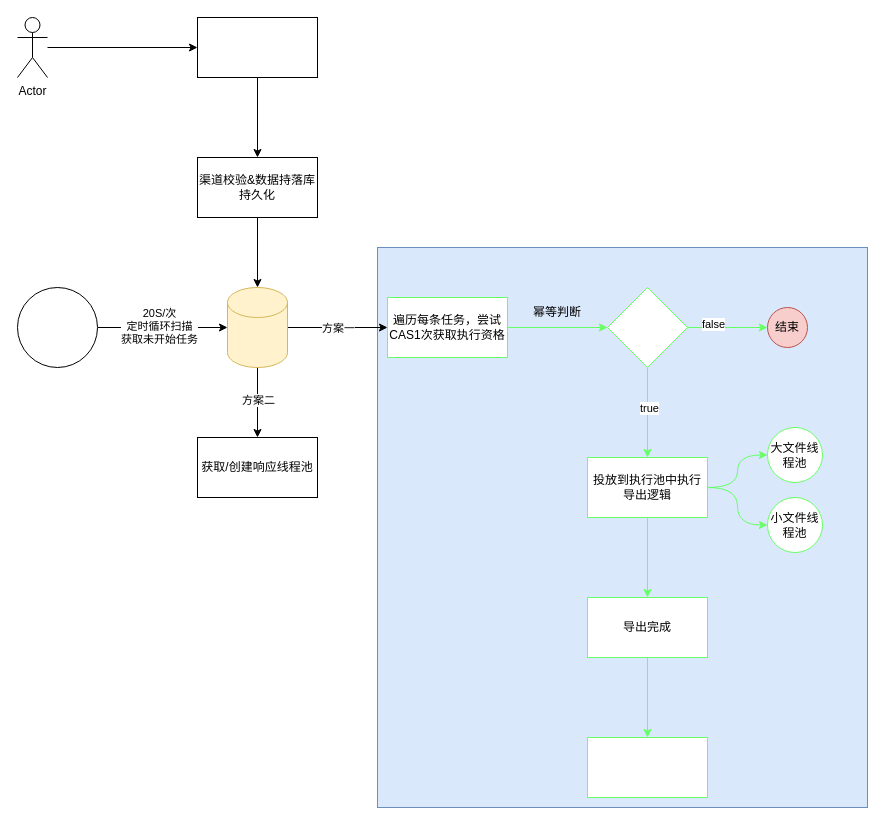
The diagram is 885 pixels wide and 825 high, and some of its shapes have lost their labels. The shapes that lost their labels are listed below. From the top down, each one's box as (x1, y1, x2, y2) in pixels, then its label:
(196, 16, 318, 78): 导出任务触发
(16, 286, 98, 368): XXL
(606, 286, 688, 368): 尝试获取执行资格
(586, 736, 708, 798): 变更状态 =>已完成 释放项目并发资源
